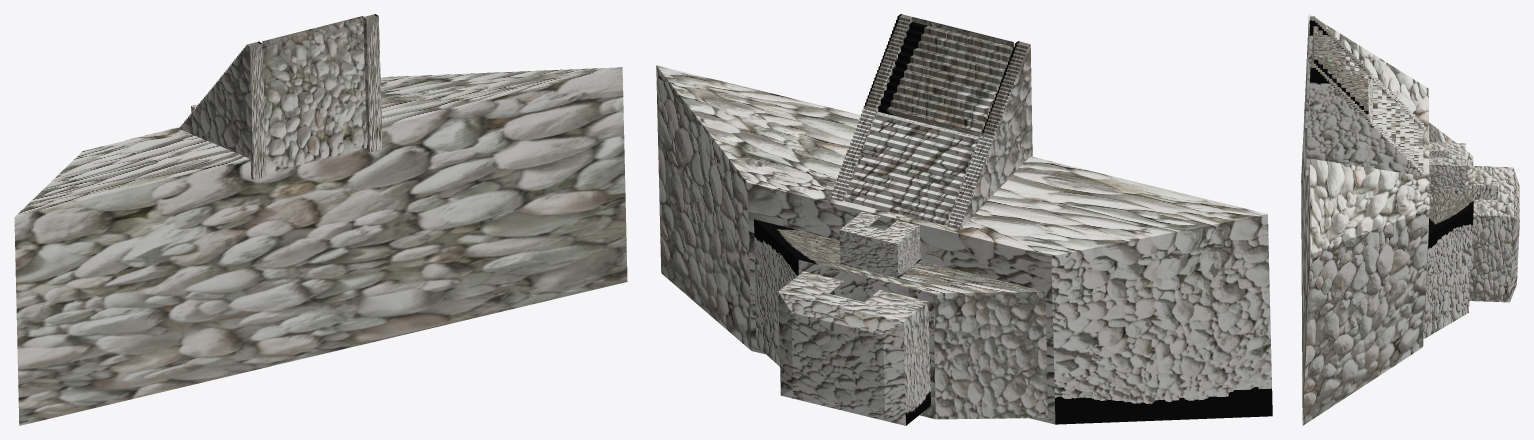
The model's file is uxmalyo12.glb.
3 views of the same model, side by side, from view 1: azimuth 30°, elevation 25°; view 2: azimuth 150°, elevation 25°; view 3: azimuth 270°, elevation 25° (orthographic). The views are drawn at different scales.
Parts seen in each view (by area): view 1: Cube.001, Cubo.003, Cubo.004, Cubo.005; view 2: Cube.001, Cube.002, Cubo.003, Cube.003, Cubo.004, Cube, Cubo.005; view 3: Cube.001, Cube.002, Cubo.005, Cube.003, Cubo.003, Cube, Cubo.004.
Boxes of the visible parts, x1,y1,x2,y2 form: Cube.001: (14,67,627,425); Cubo.003: (262,16,366,173); Cubo.004: (180,41,266,179); Cubo.005: (363,14,382,152); Cube.001: (656,65,1272,424); Cube.002: (754,219,1047,419); Cubo.003: (844,17,1013,225); Cube.003: (778,271,930,425); Cubo.004: (947,41,1032,229); Cube: (839,212,920,278); Cubo.005: (830,14,912,201); Cube.001: (1301,14,1429,425); Cube.002: (1424,122,1473,338); Cubo.005: (1305,63,1424,176); Cube.003: (1469,166,1519,302); Cubo.003: (1311,26,1423,169); Cube: (1429,142,1465,193); Cubo.004: (1305,16,1423,129).
Bounding box in the file's own units: 59.64 × 30.28 × 22.85.
7 materials, 7 textured.
